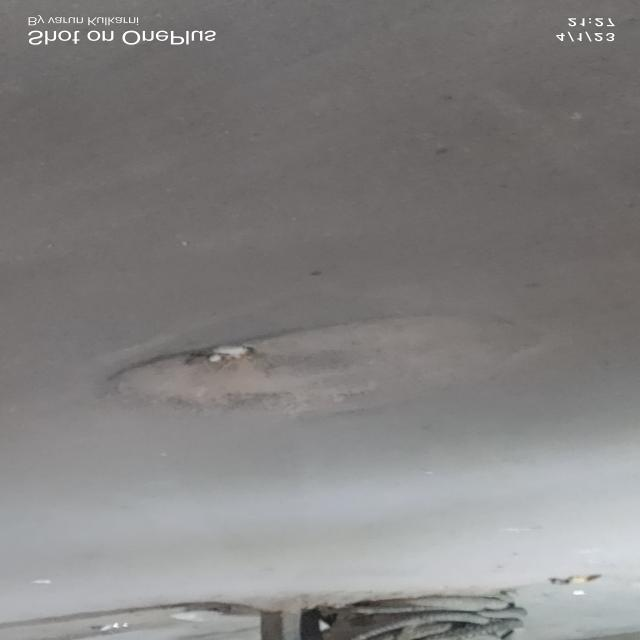potholes: (78, 303, 556, 437)
